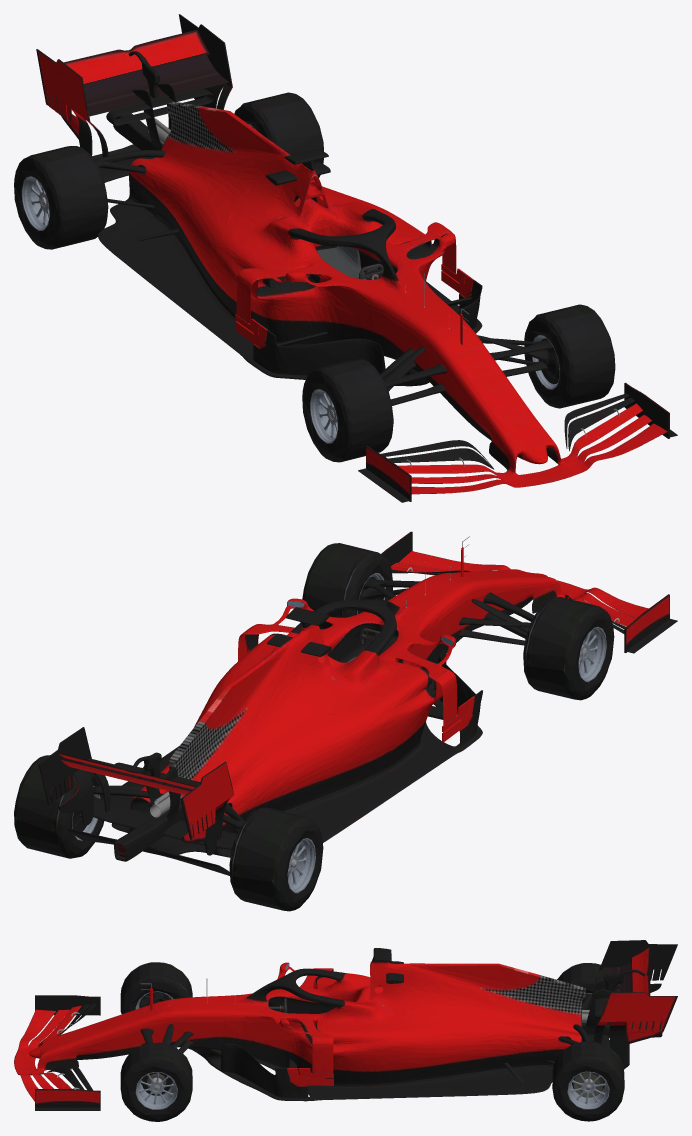
3 views of the same model, one above another, from view 1: azimuth 30°, elevation 25°; view 2: azimuth 150°, elevation 25°; view 3: azimuth 270°, elevation 25° (orthographic). The views are drawn at different scales.
Parts seen in each view (by area): view 1: object 1, WHEEL_Tire RL.001_Tire_0, object 4, WHEEL_Tire FL_Tire_0, WHEEL_Tire RL_Tire_0, object 5, WHEEL_Rim RL.001_Tire_0; view 2: object 1, WHEEL_Tire RL.001_Tire_0, object 4, WHEEL_Tire RL_Tire_0, WHEEL_Tire FL_Tire_0, object 5, WHEEL_Rim RL.001_Tire_0; view 3: object 1, WHEEL_Tire RL_Tire_0, WHEEL_Tire FL_Tire_0, object 4, WHEEL_Rim FL_Tire_0, WHEEL_Rim RL_Tire_0, WHEEL_Tire RL.001_Tire_0.
Part boxes in pixels (x1=…): object 1: x1=36, y1=14, x2=677, y2=502; WHEEL_Tire RL.001_Tire_0: x1=14, y1=146, x2=108, y2=249; object 4: x1=302, y1=359, x2=393, y2=462; WHEEL_Tire FL_Tire_0: x1=524, y1=304, x2=615, y2=408; WHEEL_Tire RL_Tire_0: x1=234, y1=92, x2=323, y2=177; object 5: x1=310, y1=388, x2=338, y2=443; WHEEL_Rim RL.001_Tire_0: x1=21, y1=176, x2=49, y2=230; object 1: x1=38, y1=531, x2=677, y2=876; WHEEL_Tire RL.001_Tire_0: x1=229, y1=807, x2=323, y2=911; object 4: x1=523, y1=597, x2=614, y2=700; WHEEL_Tire RL_Tire_0: x1=14, y1=755, x2=104, y2=858; WHEEL_Tire FL_Tire_0: x1=302, y1=543, x2=392, y2=629; object 5: x1=578, y1=626, x2=606, y2=682; WHEEL_Rim RL.001_Tire_0: x1=287, y1=838, x2=315, y2=893; object 1: x1=14, y1=940, x2=677, y2=1110; WHEEL_Tire RL_Tire_0: x1=552, y1=1041, x2=624, y2=1121; WHEEL_Tire FL_Tire_0: x1=120, y1=1042, x2=192, y2=1121; object 4: x1=120, y1=962, x2=192, y2=1013; WHEEL_Rim FL_Tire_0: x1=135, y1=1072, x2=177, y2=1109; WHEEL_Rim RL_Tire_0: x1=567, y1=1071, x2=609, y2=1109; WHEEL_Tire RL.001_Tire_0: x1=557, y1=963, x2=600, y2=993.
Size of the model in its own units: 2.53 by 1.42 by 7.08.
Materials: 3 (3 with a texture image).
